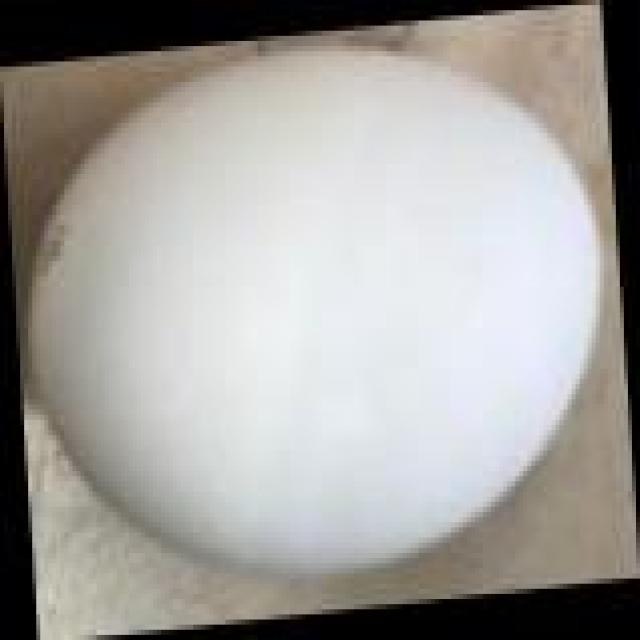Egg: (0, 47, 640, 596)
